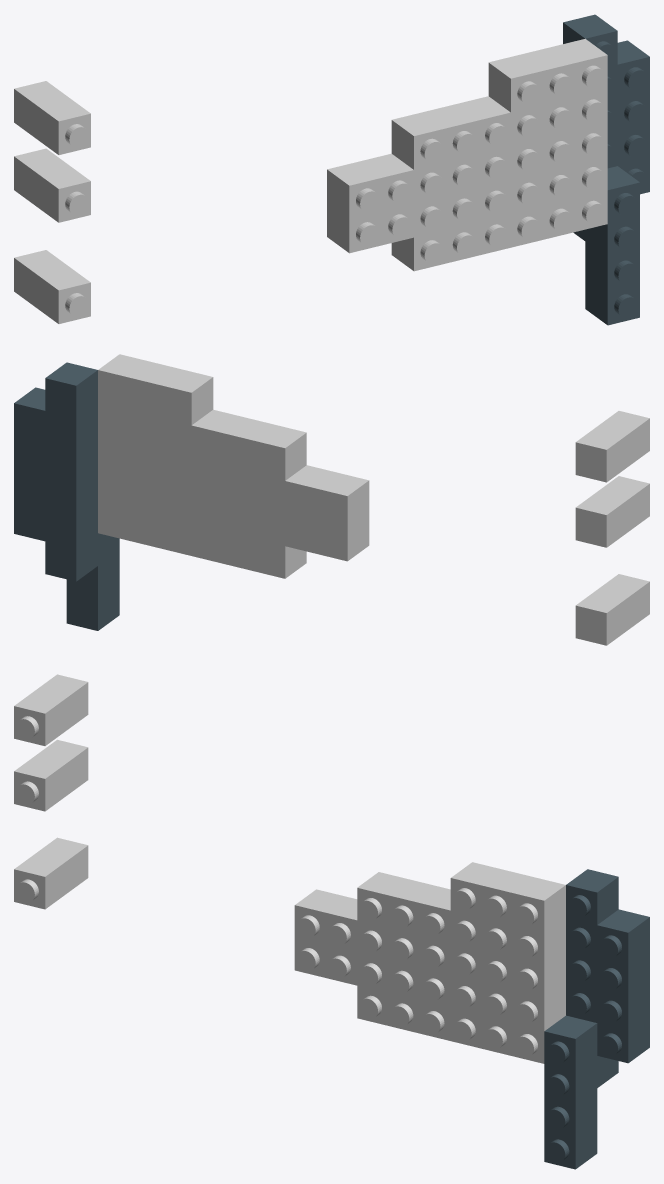
The model's file is full.glb.
3 renders of one model, top to bottom at view 1: azimuth 30°, elevation 25°; view 2: azimuth 150°, elevation 25°; view 3: azimuth 330°, elevation 25°, orthographic. The views are drawn at different scales.
Parts seen in each view (by area): view 1: world; view 2: world; view 3: world.
Part boxes in pixels (box(x1,y1,x2,y2)): world: box(14, 14, 649, 325); world: box(14, 354, 649, 645); world: box(14, 674, 649, 1169).
Bounding box in the file's own units: 152 × 80 × 21.
